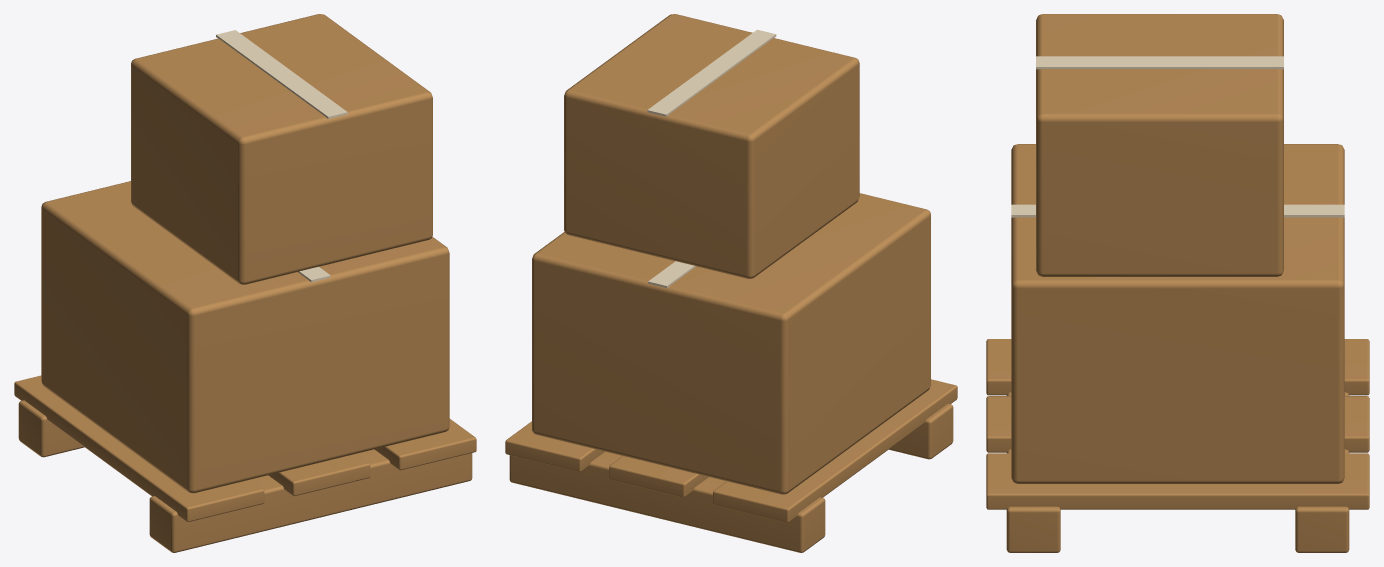
Rendered from stock-boxes.glb.
3 renders of one model, left to right at view 1: azimuth 30°, elevation 25°; view 2: azimuth 150°, elevation 25°; view 3: azimuth 270°, elevation 25°, orthographic. The views are drawn at different scales.
Visible parts, largest first — view 1: interior-cardboard, interior-cream; view 2: interior-cardboard, interior-cream; view 3: interior-cardboard, interior-cream.
Part boxes in pixels (x1=…): interior-cardboard: x1=14, y1=14, x2=476, y2=552; interior-cream: x1=216, y1=30, x2=347, y2=282; interior-cardboard: x1=505, y1=14, x2=957, y2=552; interior-cream: x1=647, y1=29, x2=776, y2=288; interior-cardboard: x1=986, y1=14, x2=1369, y2=552; interior-cream: x1=1011, y1=56, x2=1344, y2=217.
Bounding box in the file's own units: 0.85 × 1.05 × 0.85.
